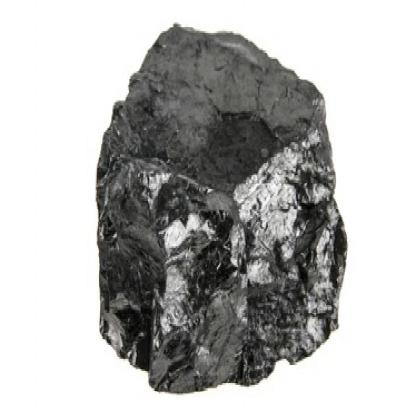Sedimentary_coal: (84, 7, 350, 388)
